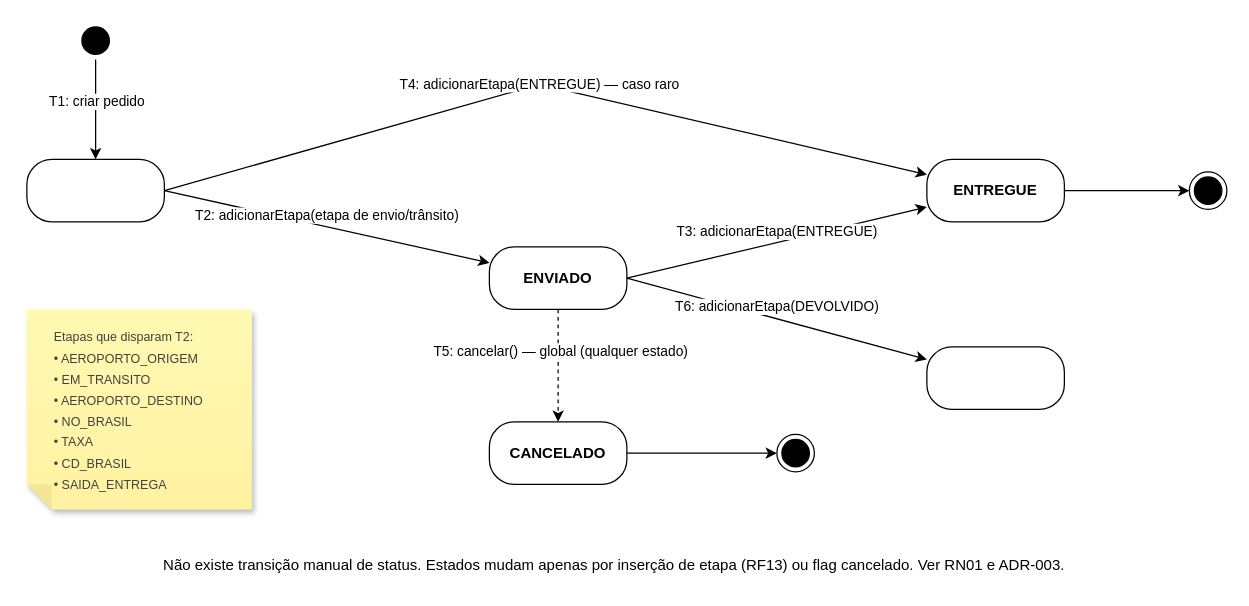
Image size: 1249x606. Some labels were removed from this diagram. The centre of each missing label's shape, as x and y in pixels:
"DEVOLVIDO" belongs at point 995,377.
"PROCESSANDO" belongs at point 95,190.
